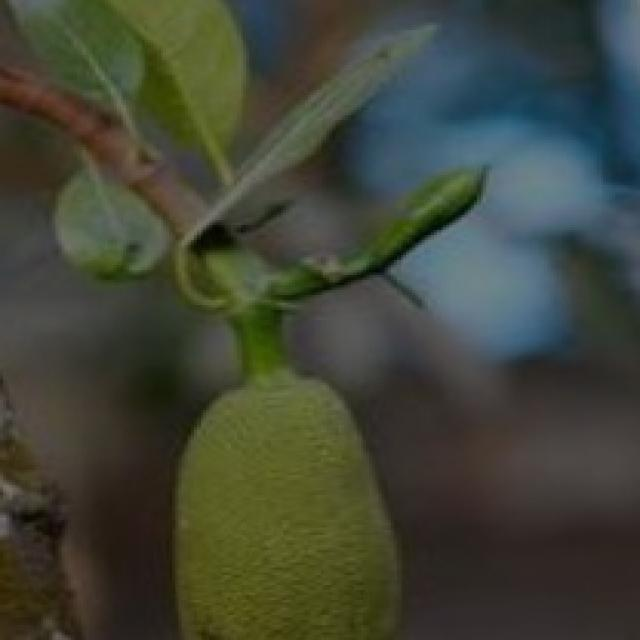Fruit: (111, 342, 449, 640)
